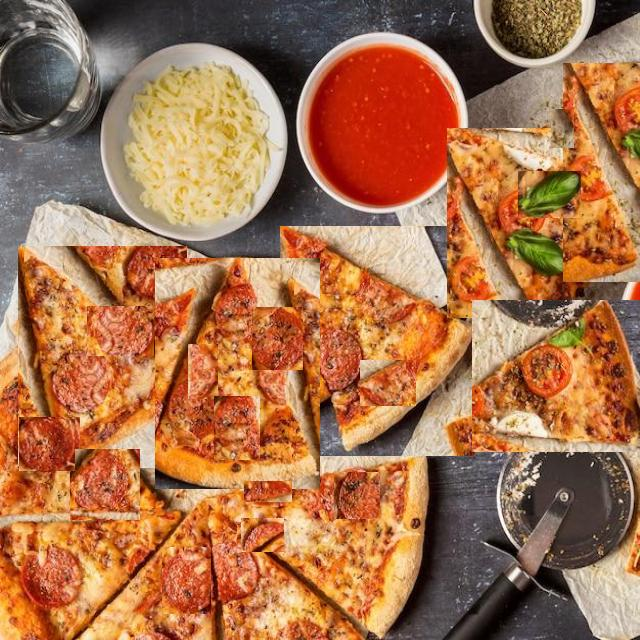basil: (518, 171, 581, 218), (528, 397, 563, 429), (551, 110, 574, 150)
pepperoni: (70, 449, 140, 520), (23, 541, 82, 606), (87, 306, 154, 356), (162, 548, 211, 616), (19, 417, 82, 469), (252, 307, 303, 370), (214, 396, 260, 460), (19, 419, 75, 471), (312, 295, 361, 351), (217, 544, 258, 608), (360, 360, 416, 406), (334, 472, 380, 519), (188, 344, 218, 399), (286, 404, 320, 448), (241, 518, 284, 552), (244, 482, 292, 504), (242, 486, 307, 502), (237, 522, 276, 547), (163, 348, 176, 397)
pizza: (0, 234, 433, 639), (280, 226, 475, 456), (155, 258, 320, 489), (18, 246, 187, 468), (447, 128, 640, 318), (472, 300, 640, 452), (563, 63, 640, 282)
